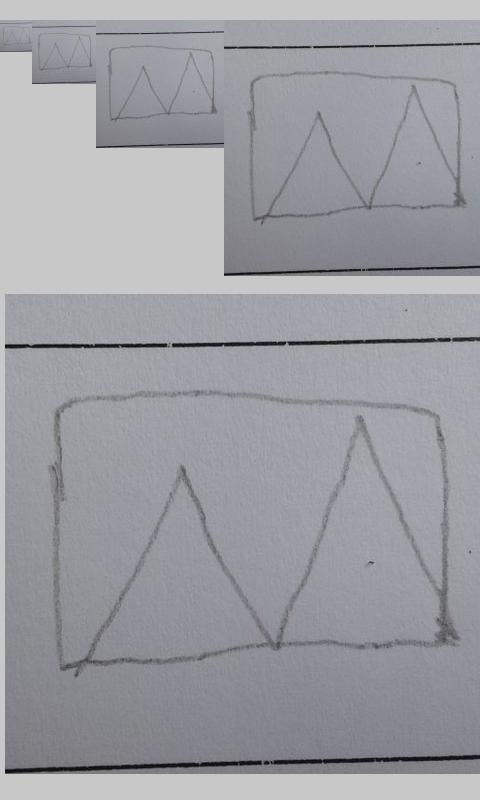image_view: (50, 387, 454, 670), (247, 70, 461, 219), (107, 45, 217, 122), (38, 32, 92, 71), (2, 25, 31, 46)
